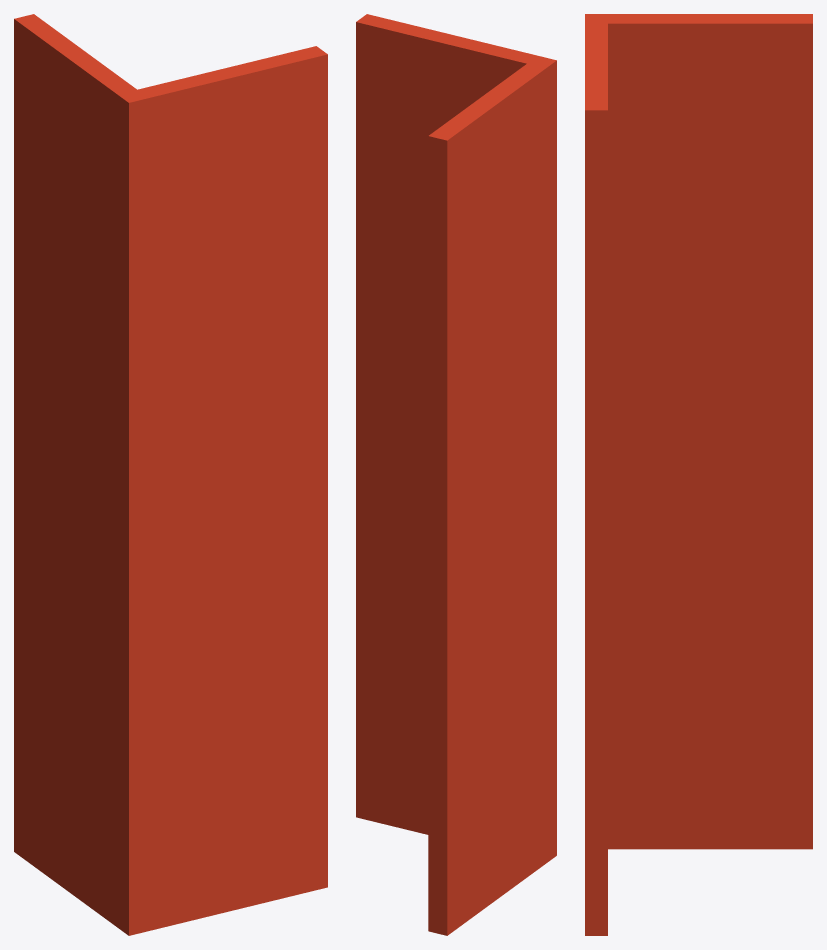
Rendered from Corner_A.fbx.
The picture shows the model from 3 angles, left to right: view 1: azimuth 30°, elevation 25°; view 2: azimuth 150°, elevation 25°; view 3: azimuth 270°, elevation 25°; orthographic projection. The views are drawn at different scales.
Visible parts, largest first — view 1: 5.Corner_A; view 2: 5.Corner_A; view 3: 5.Corner_A.
Part boxes in pixels (x1,y1,x2,y2): 5.Corner_A: (14,14,327,935); 5.Corner_A: (356,14,556,935); 5.Corner_A: (585,14,812,935).
Bounding box in the file's own units: 1 × 4 × 1.
